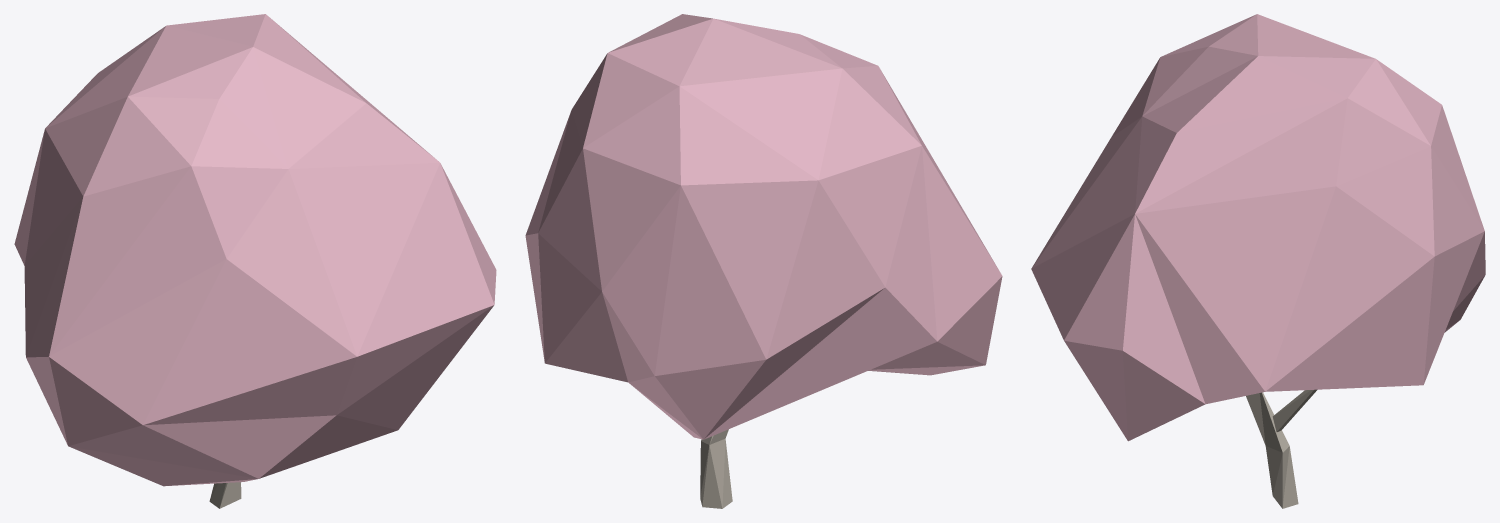
File: ChilopsisLinearis.glb
The picture shows the model from 3 angles, left to right: view 1: azimuth 30°, elevation 25°; view 2: azimuth 150°, elevation 25°; view 3: azimuth 270°, elevation 25°; orthographic projection. The views are drawn at different scales.
Parts seen in each view (by area): view 1: Crown, Trunk; view 2: Crown, Trunk; view 3: Crown, Trunk.
Part boxes in pixels (left/top/right/bottom): Crown: left=14, top=14, right=496, bottom=486; Trunk: left=209, top=482, right=241, bottom=508; Crown: left=525, top=14, right=1002, bottom=439; Trunk: left=700, top=429, right=732, bottom=508; Crown: left=1031, top=14, right=1485, bottom=441; Trunk: left=1246, top=389, right=1317, bottom=508.
Bounding box in the file's own units: 5.72 × 5.95 × 5.41.
